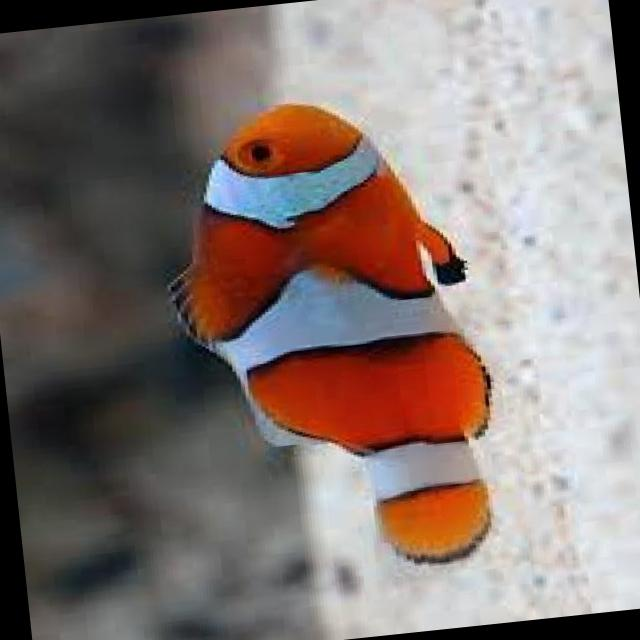ClownFish: (114, 66, 546, 604)
